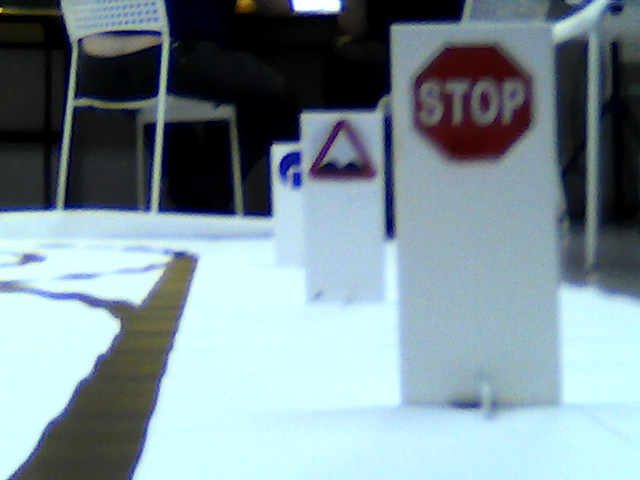Nerov: (309, 119, 376, 179)
Stop: (411, 40, 532, 169)
